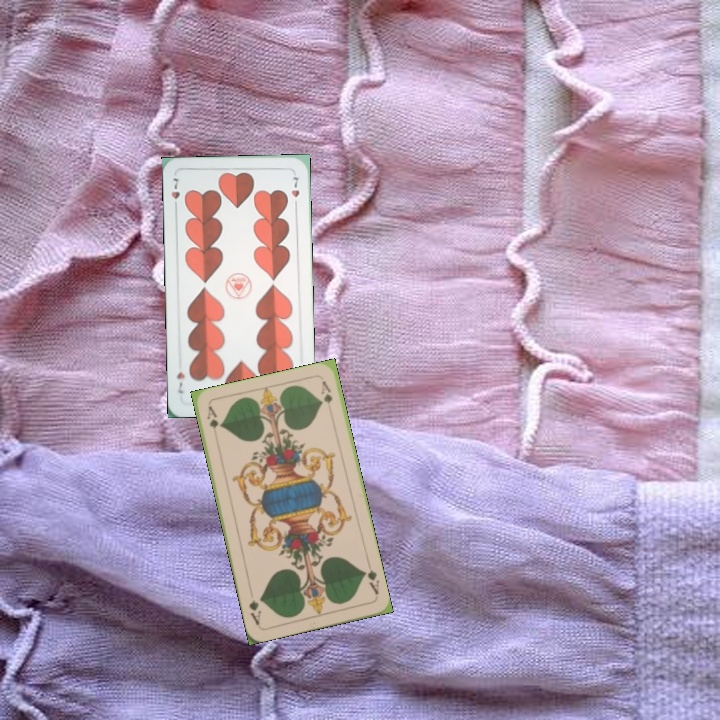GA: (203, 402, 222, 443), (359, 565, 382, 597)
H7: (167, 174, 182, 212)
